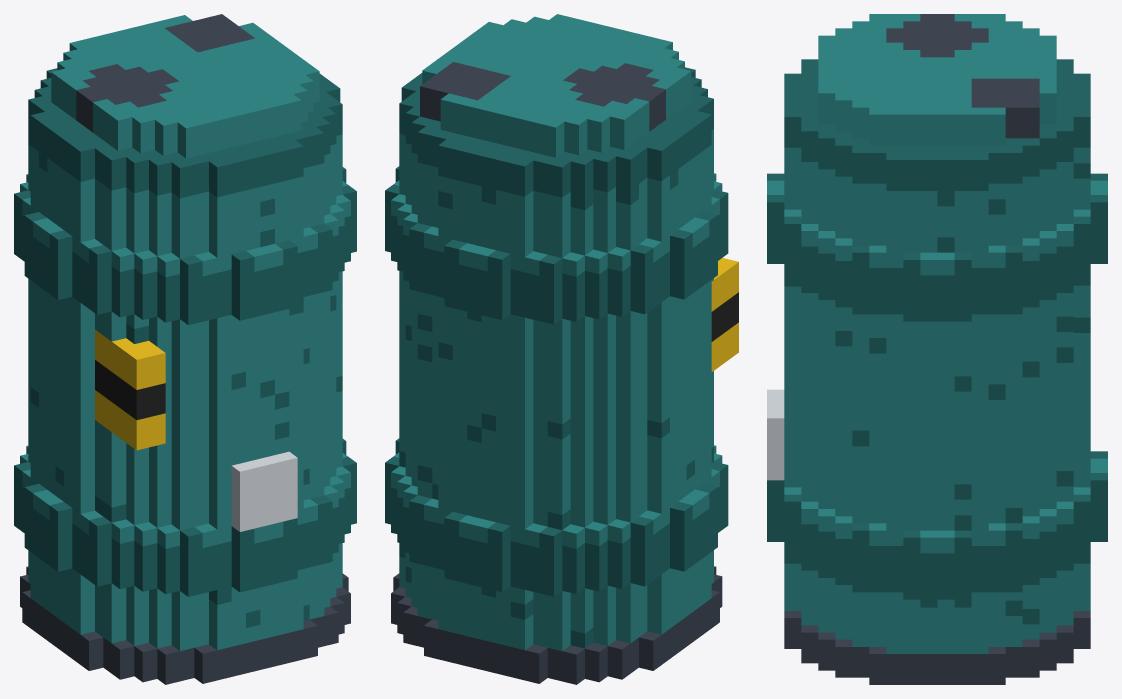
File: barrel.obj
3 renders of one model, left to right at view 1: azimuth 30°, elevation 25°; view 2: azimuth 150°, elevation 25°; view 3: azimuth 270°, elevation 25°, orthographic. The views are drawn at different scales.
Visible parts, largest first — view 1: barrel; view 2: barrel; view 3: barrel.
Part boxes in pixels (x1,y1,x2,y2): barrel: [14, 14, 356, 684]; barrel: [385, 14, 738, 684]; barrel: [767, 14, 1107, 684].
Bounding box in the file's own units: 0.625 × 1.12 × 0.625.
